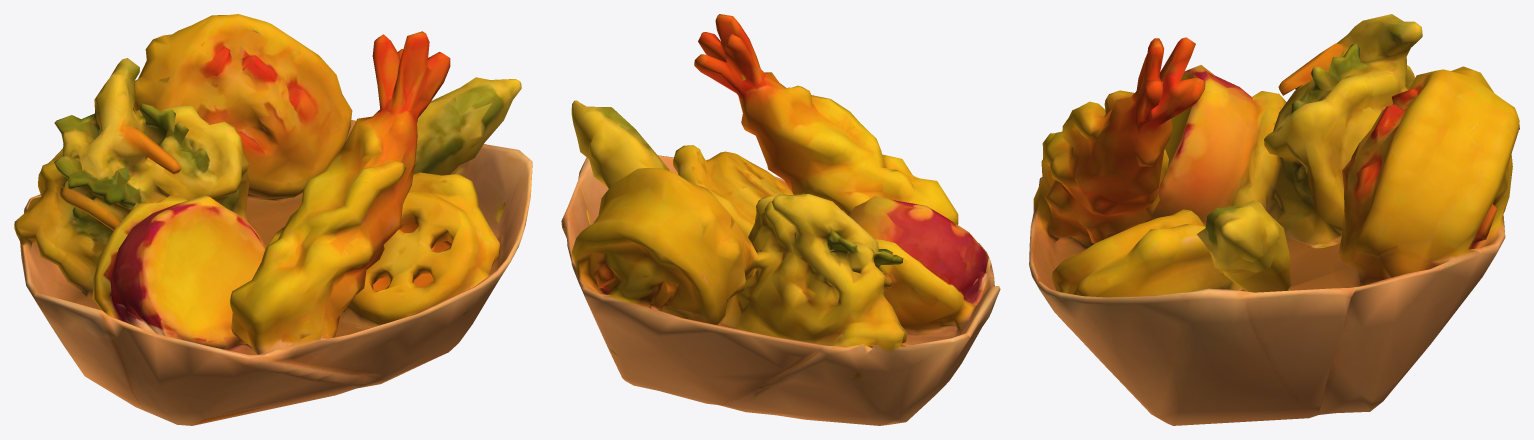
3 renders of one model, left to right at view 1: azimuth 30°, elevation 25°; view 2: azimuth 150°, elevation 25°; view 3: azimuth 270°, elevation 25°, orthographic. The views are drawn at different scales.
Parts seen in each view (by area): view 1: twigim; view 2: twigim; view 3: twigim.
Part boxes in pixels (x1,y1,x2,y2): twigim: (14,14,532,425); twigim: (561,14,1000,425); twigim: (1029,14,1519,425).
Size of the model in its own units: 0.1802 by 0.1245 by 0.151.
1 material, 1 textured.
